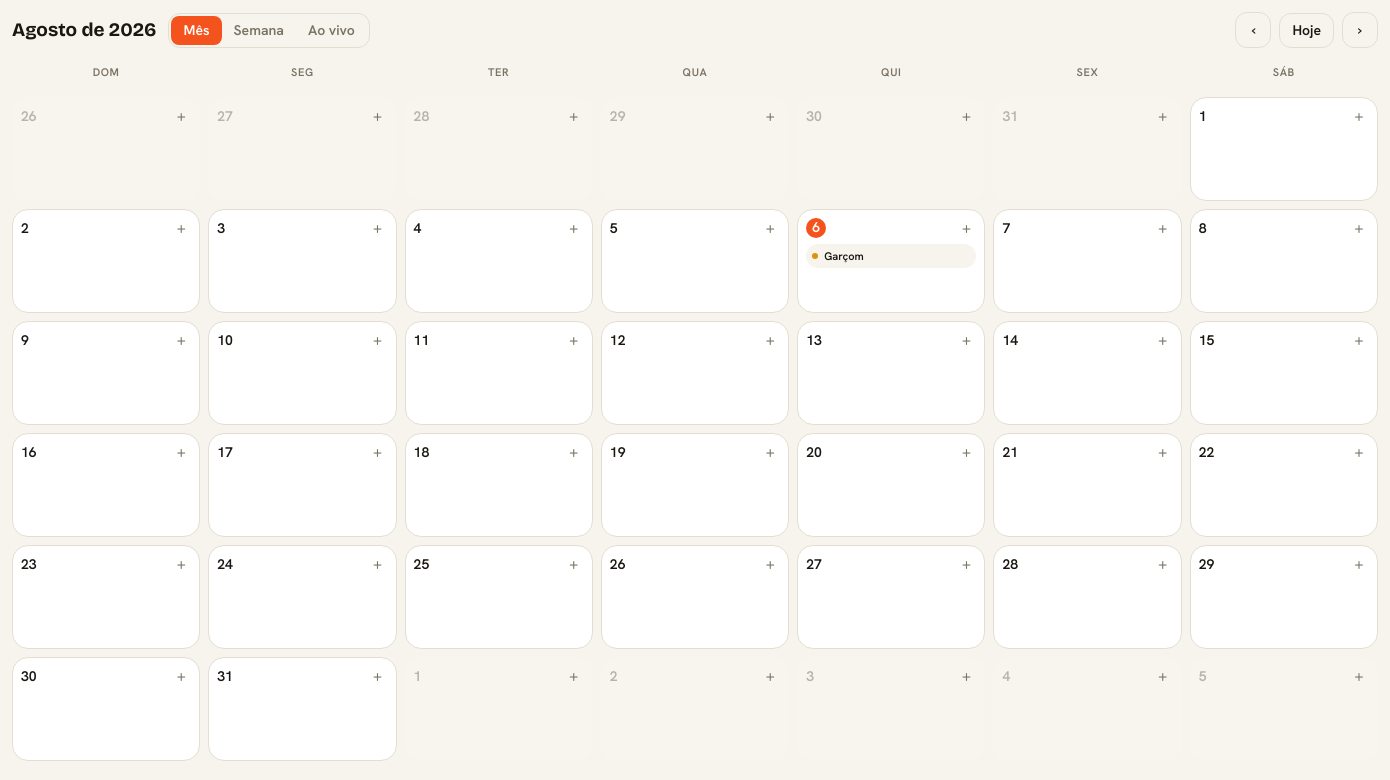
Test: EscalaPage › exige o checkbox de termos marcado antes de habilitar "Confirmar duplicação"
Check: the heading "Agosto de 2026" is shown, box [12,16,156,44]
Click the button "Semana" at [259, 30], box [222,16,296,44]
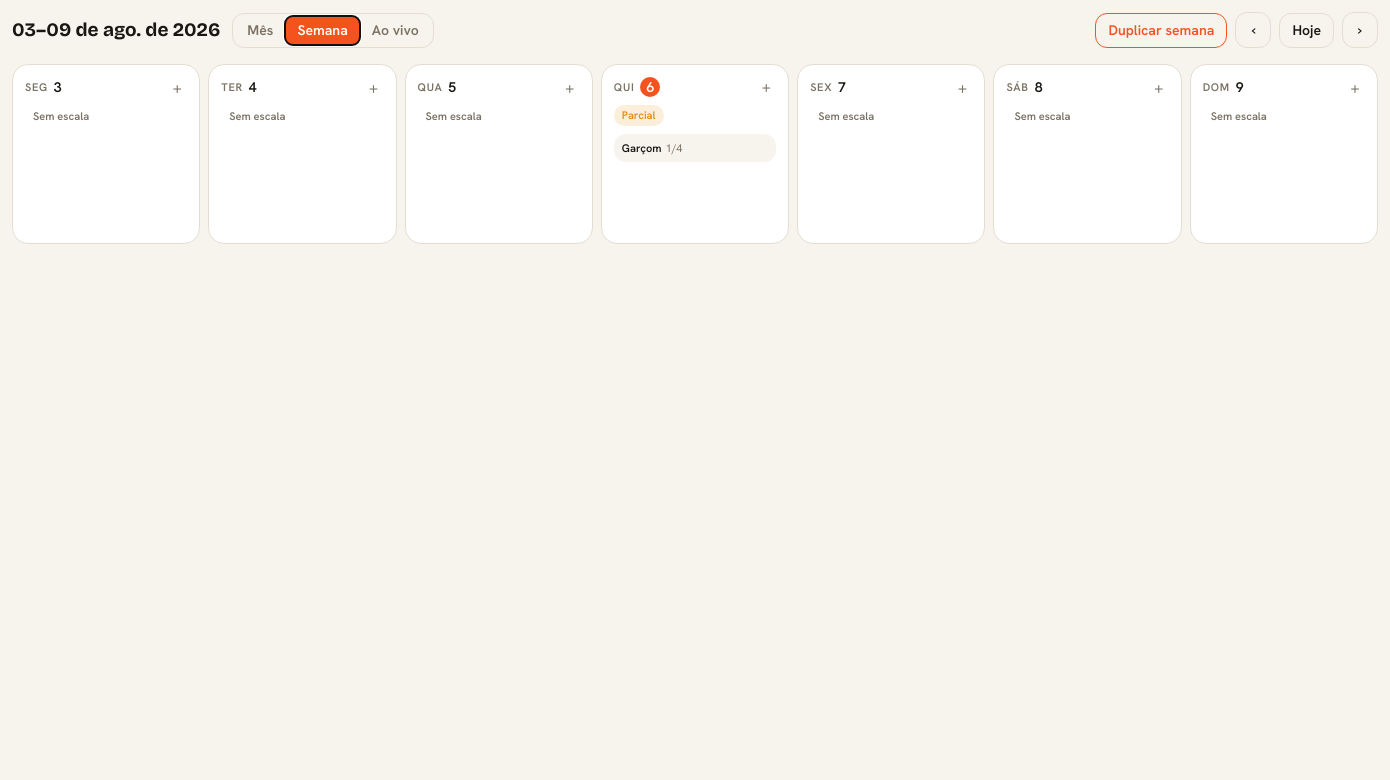
Click the button "Duplicar semana" at [1162, 30], box [1096,12,1228,48]
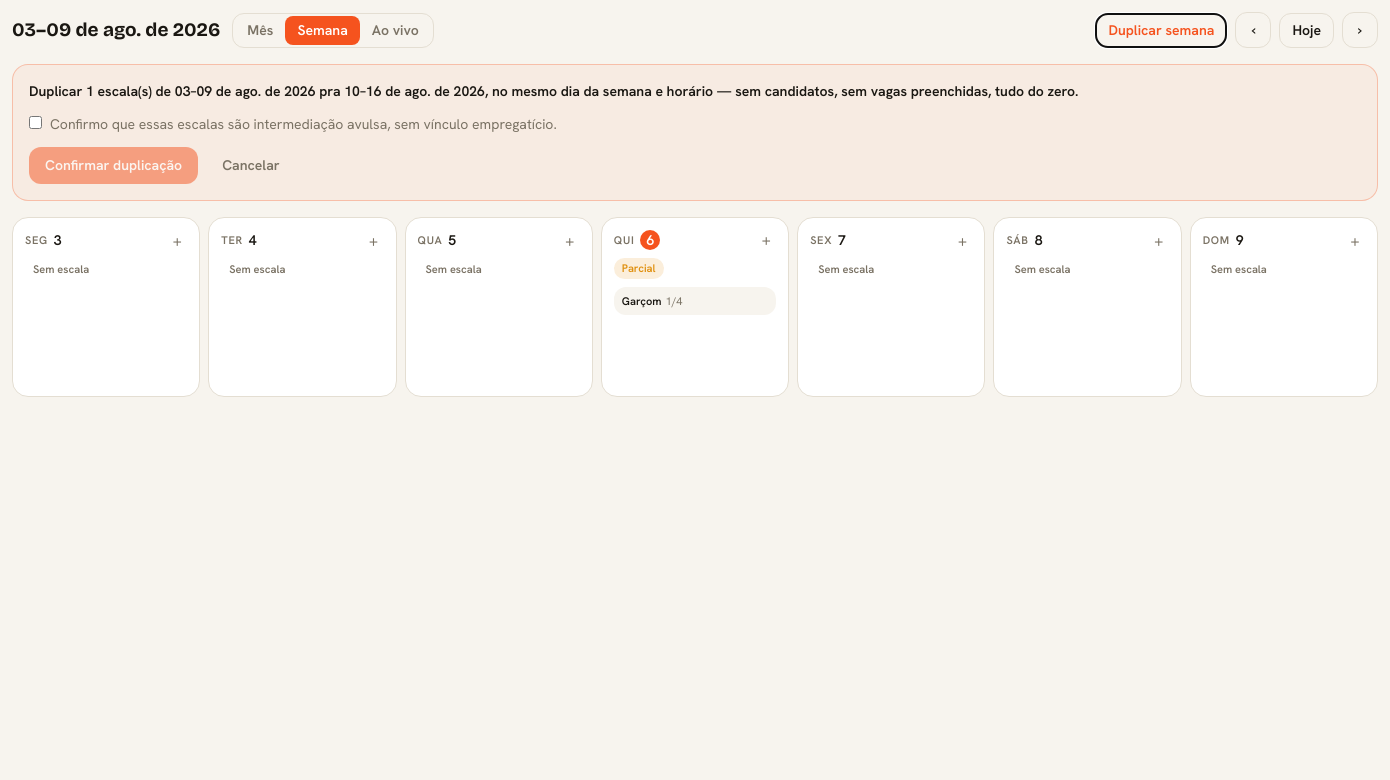
Check: the button "Confirmar duplicação" is disabled, box [29,147,198,184]
Click the checkbox at [36, 122], box [29,116,42,129]
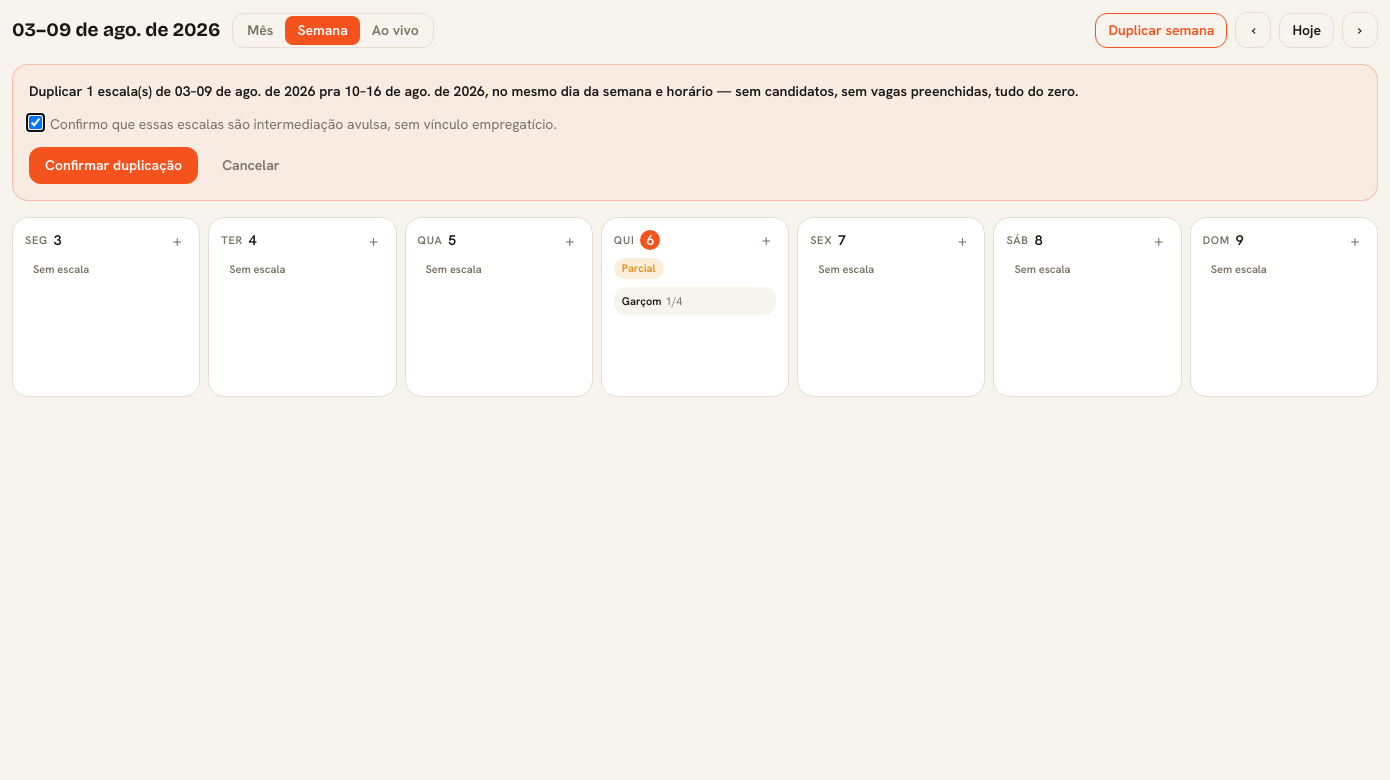
Check: the button "Confirmar duplicação" is enabled, box [29,147,198,184]
